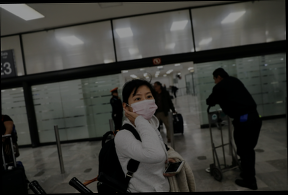with_mask: (128, 91, 158, 120)
